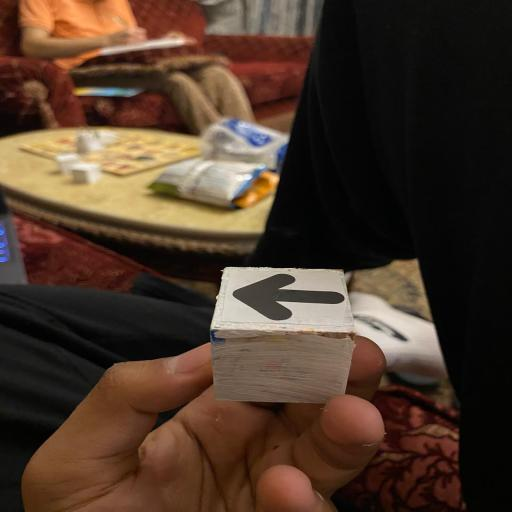Back: (205, 266, 359, 406)
